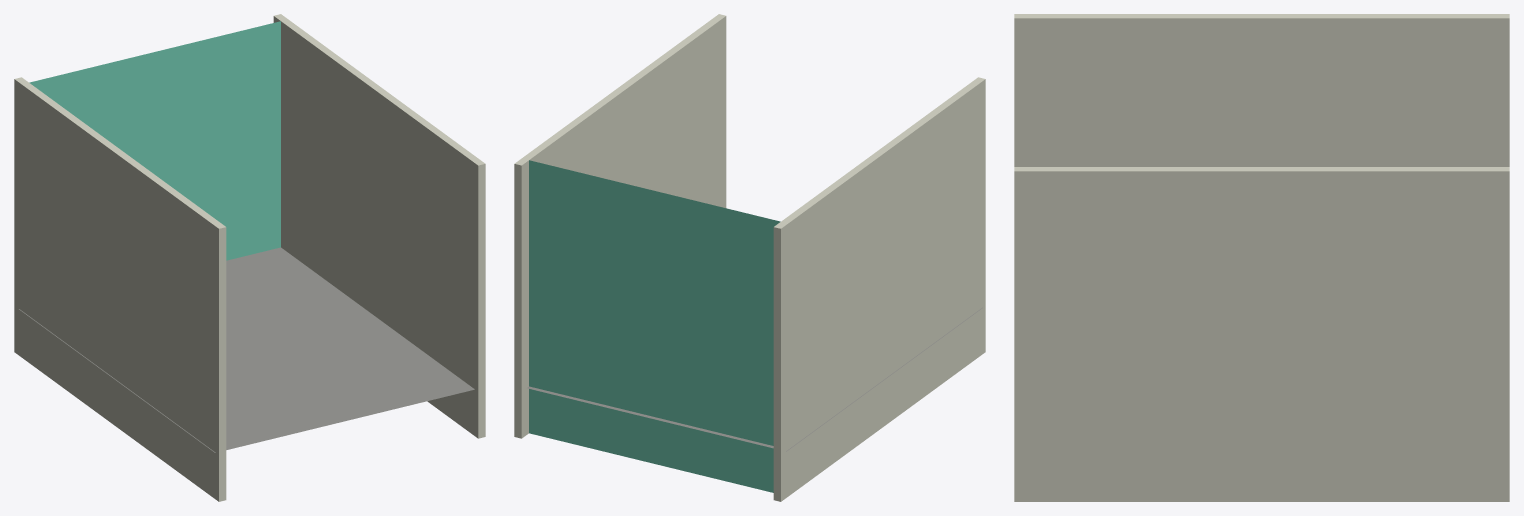
Rendered from room_Centre.fbx.
3 renders of one model, left to right at view 1: azimuth 30°, elevation 25°; view 2: azimuth 150°, elevation 25°; view 3: azimuth 270°, elevation 25°, orthographic. The views are drawn at different scales.
Parts seen in each view (by area): view 1: room_Centre_geo; view 2: room_Centre_geo; view 3: room_Centre_geo.
Part boxes in pixels (<box>): room_Centre_geo: <box>14,14,485,501</box>; room_Centre_geo: <box>514,14,985,501</box>; room_Centre_geo: <box>1014,14,1509,501</box>.
Bounding box in the file's own units: 636 × 621 × 844.
